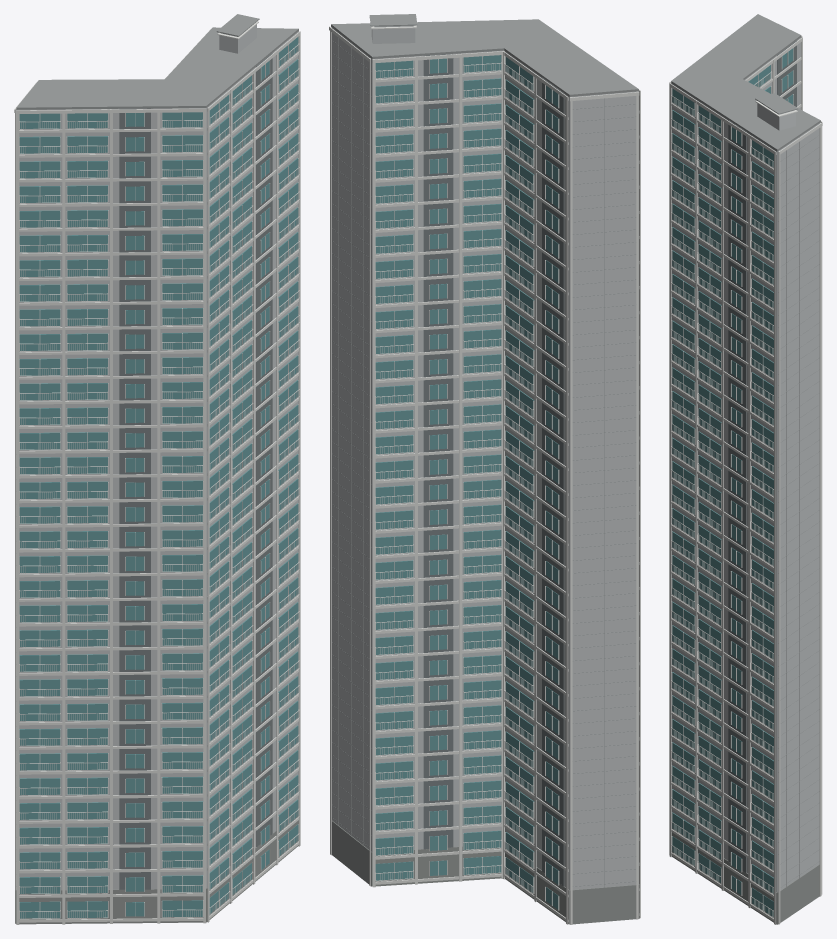
Rendered from bespoke-jamsil-ricenz-244.glb.
3 views of the same model, side by side, from view 1: azimuth 30°, elevation 25°; view 2: azimuth 150°, elevation 25°; view 3: azimuth 270°, elevation 25° (orthographic). The views are drawn at different scales.
Parts seen in each view (by area): view 1: Ricenz244_editable_Ricenz244_turquoise_balcony_glazing, Ricenz244_editable_Ricenz244_light_grey_solid_wall, Ricenz244_white_exact_chunk_1, Ricenz244_white_exact_chunk_0, Ricenz244_white_exact_chunk_2, Ricenz244_editable_Ricenz244_narrow_charcoal_service_strips, Ricenz244_white_exact_chunk_3, Ricenz244_editable_Ricenz244_modest_grey_flat_roof_caps, Ricenz244_editable_Ricenz244_muted_ground_wall; view 2: Ricenz244_editable_Ricenz244_light_grey_solid_wall, Ricenz244_editable_Ricenz244_turquoise_balcony_glazing, Ricenz244_white_exact_chunk_3, Ricenz244_editable_Ricenz244_narrow_charcoal_service_strips, Ricenz244_white_exact_chunk_4, Ricenz244_editable_Ricenz244_modest_grey_flat_roof_caps, Ricenz244_editable_Ricenz244_muted_ground_wall, Ricenz244_white_exact_chunk_0, Ricenz244_white_exact_chunk_1; view 3: Ricenz244_editable_Ricenz244_light_grey_solid_wall, Ricenz244_editable_Ricenz244_turquoise_balcony_glazing, Ricenz244_white_exact_chunk_2, Ricenz244_white_exact_chunk_3, Ricenz244_editable_Ricenz244_modest_grey_flat_roof_caps, Ricenz244_white_exact_chunk_1, Ricenz244_editable_Ricenz244_narrow_charcoal_service_strips, Ricenz244_editable_Ricenz244_muted_ground_wall, Ricenz244_white_exact_chunk_4.
Part boxes in pixels (x1,y1,x2,y2): Ricenz244_editable_Ricenz244_turquoise_balcony_glazing: [19, 37, 298, 918]; Ricenz244_editable_Ricenz244_light_grey_solid_wall: [16, 24, 298, 889]; Ricenz244_white_exact_chunk_1: [16, 94, 253, 924]; Ricenz244_white_exact_chunk_0: [14, 82, 157, 923]; Ricenz244_white_exact_chunk_2: [232, 59, 299, 880]; Ricenz244_editable_Ricenz244_narrow_charcoal_service_strips: [119, 53, 272, 889]; Ricenz244_white_exact_chunk_3: [165, 29, 300, 922]; Ricenz244_editable_Ricenz244_modest_grey_flat_roof_caps: [16, 14, 298, 491]; Ricenz244_editable_Ricenz244_muted_ground_wall: [15, 816, 298, 924]; Ricenz244_editable_Ricenz244_light_grey_solid_wall: [331, 25, 638, 890]; Ricenz244_editable_Ricenz244_turquoise_balcony_glazing: [375, 55, 558, 909]; Ricenz244_white_exact_chunk_3: [329, 26, 534, 898]; Ricenz244_editable_Ricenz244_narrow_charcoal_service_strips: [423, 54, 564, 886]; Ricenz244_white_exact_chunk_4: [371, 25, 568, 924]; Ricenz244_editable_Ricenz244_modest_grey_flat_roof_caps: [331, 14, 638, 887]; Ricenz244_editable_Ricenz244_muted_ground_wall: [332, 820, 639, 924]; Ricenz244_white_exact_chunk_0: [570, 91, 639, 924]; Ricenz244_white_exact_chunk_1: [639, 89, 640, 918]; Ricenz244_editable_Ricenz244_light_grey_solid_wall: [671, 37, 820, 892]; Ricenz244_editable_Ricenz244_turquoise_balcony_glazing: [672, 48, 793, 916]; Ricenz244_white_exact_chunk_2: [697, 105, 773, 921]; Ricenz244_white_exact_chunk_3: [669, 83, 822, 924]; Ricenz244_editable_Ricenz244_modest_grey_flat_roof_caps: [671, 14, 820, 887]; Ricenz244_white_exact_chunk_1: [669, 81, 721, 887]; Ricenz244_editable_Ricenz244_narrow_charcoal_service_strips: [728, 40, 796, 872]; Ricenz244_editable_Ricenz244_muted_ground_wall: [671, 828, 819, 924]; Ricenz244_white_exact_chunk_4: [745, 37, 802, 116].
Size of the model in its own units: 36.76 by 99.44 by 17.41.
